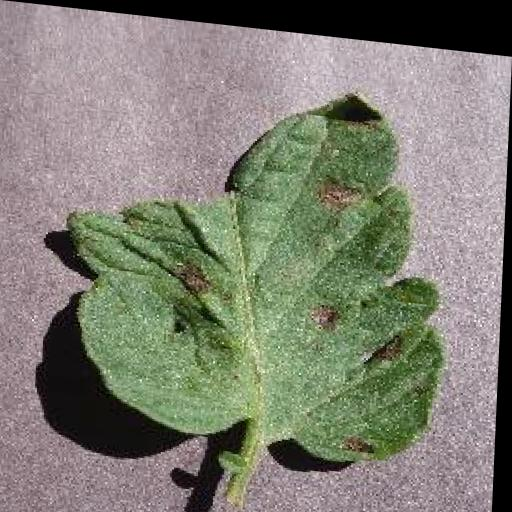Early Blight: (63, 62, 456, 465)
